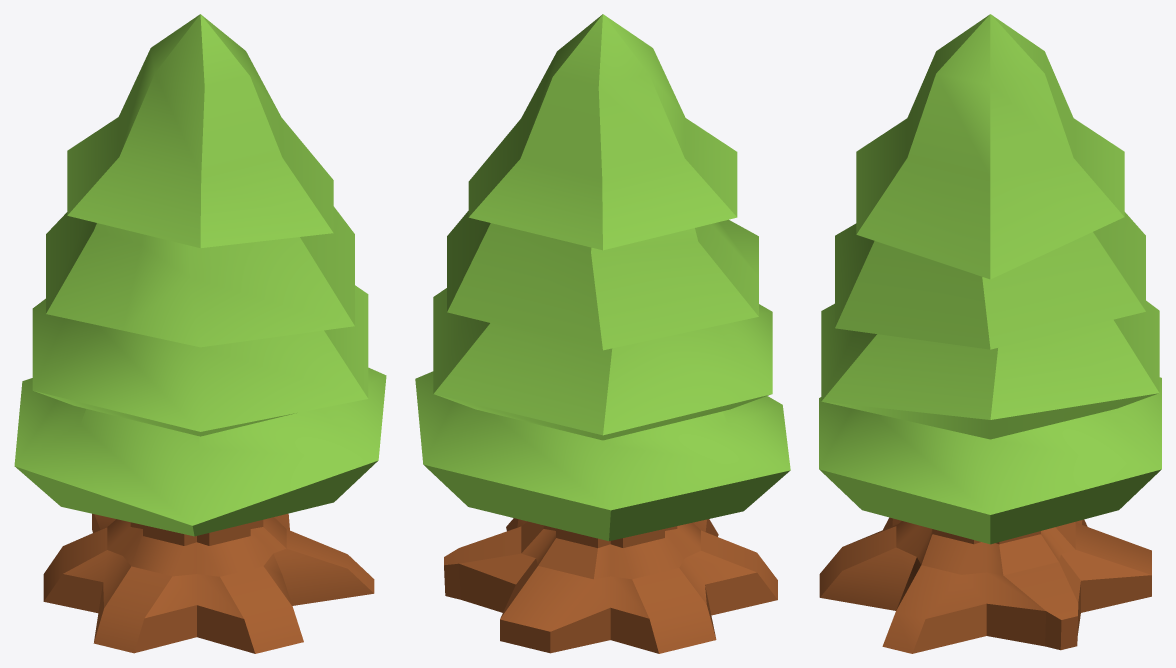
File: TreeObstacle.fbx
3 views of the same model, side by side, from view 1: azimuth 30°, elevation 25°; view 2: azimuth 150°, elevation 25°; view 3: azimuth 270°, elevation 25° (orthographic).
Visible parts, largest first — view 1: Null_1; view 2: Null_1; view 3: Null_1.
Part boxes in pixels (<box>): Null_1: <box>14,14,386,653</box>; Null_1: <box>415,14,790,653</box>; Null_1: <box>819,14,1161,653</box>.
Bounding box in the file's own units: 75.53 × 111 × 59.87.
